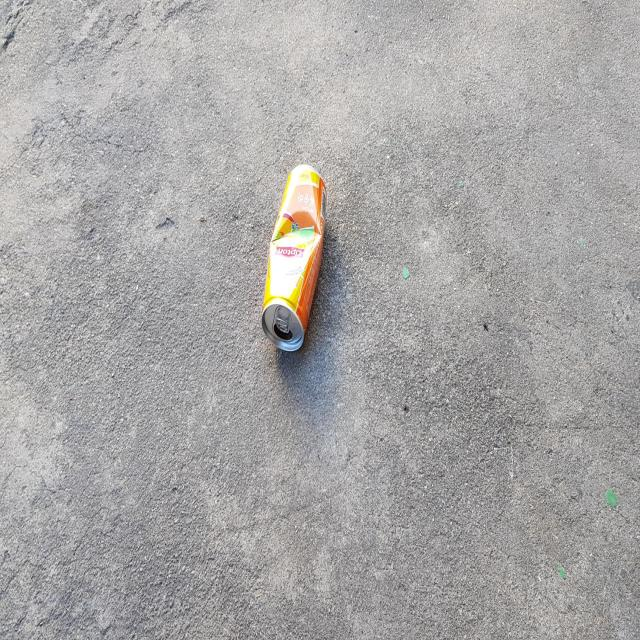can: (262, 164, 327, 351)
